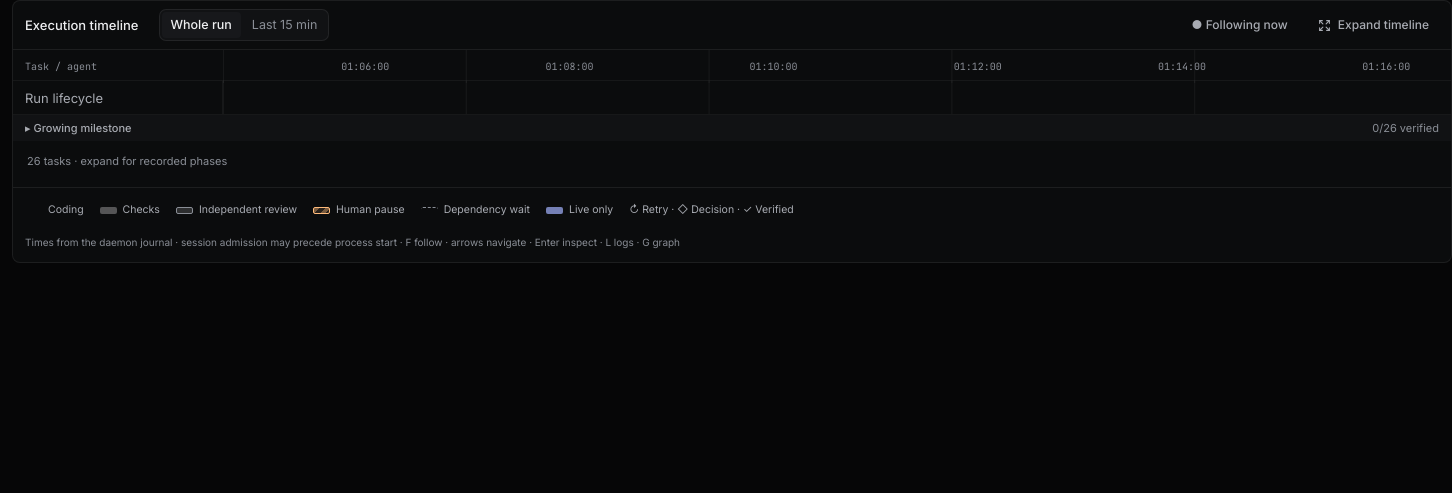
Scenario: execution interaction and history › collapses large milestone groups and lets the developer reveal every task
The width and height of the screenshot is (1452, 493).
Click the button "▸ Growing milestone": x=78, y=128 x1=25 y1=118 x2=132 y2=138
(page scrolled)
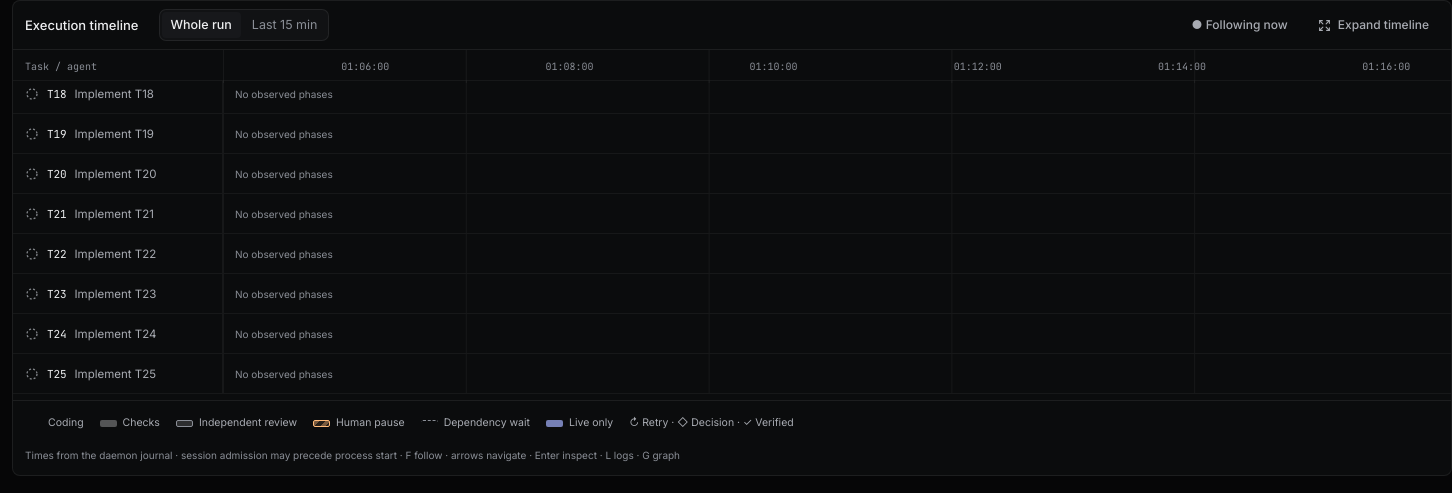
Now the button "T25 Implement T25" is shown, box x1=13 y1=354 x2=222 y2=393
